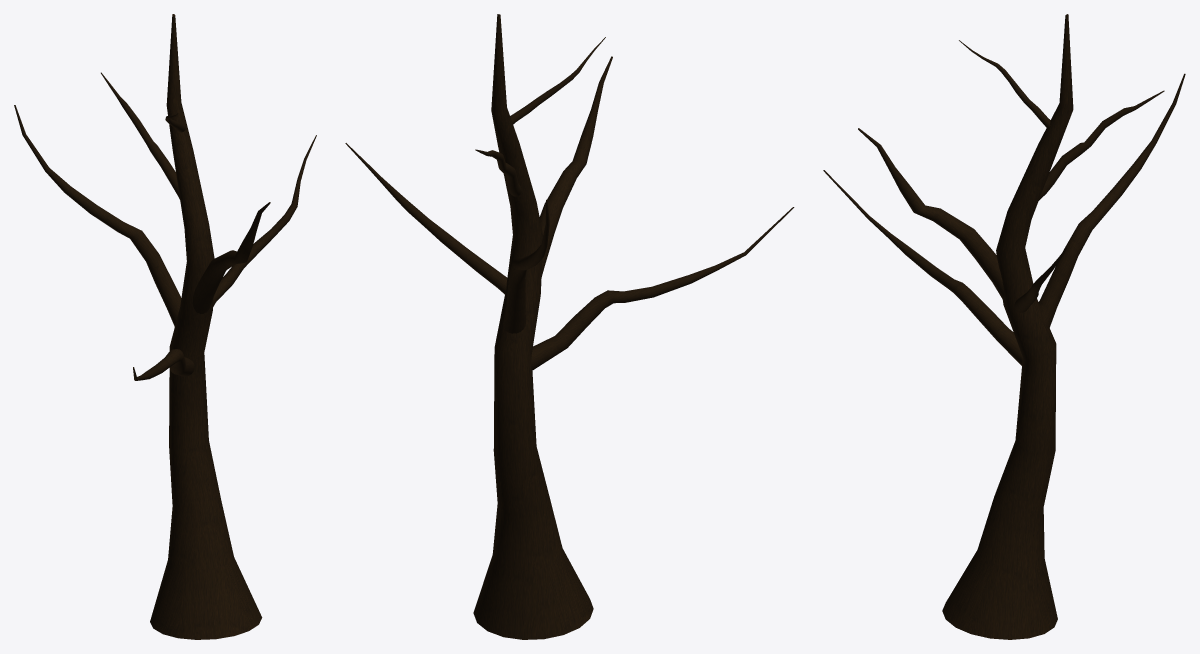
File: Tree3.FBX
The picture shows the model from 3 angles, left to right: view 1: azimuth 30°, elevation 25°; view 2: azimuth 150°, elevation 25°; view 3: azimuth 270°, elevation 25°; orthographic projection. The views are drawn at different scales.
Visible parts, largest first — view 1: Cylinder001, Cylinder005, Cylinder003, Cylinder008, Cylinder004, Cylinder006; view 2: Cylinder001, Cylinder006, Cylinder003, Cylinder008, Cylinder005, Cylinder007; view 3: Cylinder001, Cylinder005, Cylinder003, Cylinder006, Cylinder004, Cylinder007, Cylinder008.
Part boxes in pixels (x1,y1,x2,y2): Cylinder001: (150,14,262,639); Cylinder005: (14,105,181,326); Cylinder003: (192,202,270,313); Cylinder008: (213,135,316,306); Cylinder004: (101,72,179,199); Cylinder006: (133,349,194,380); Cylinder001: (473,14,593,639); Cylinder006: (531,207,794,370); Cylinder003: (539,56,612,276); Cylinder008: (345,143,507,294); Cylinder005: (503,199,549,333); Cylinder007: (510,37,605,124); Cylinder001: (942,14,1073,639); Cylinder005: (1038,73,1185,328); Cylinder003: (858,128,1004,299); Cylinder006: (823,170,1022,365); Cylinder004: (1038,90,1164,200); Cylinder007: (959,40,1050,128); Cylinder008: (1014,246,1067,312).
Bounding box in the file's own units: 155 × 287 × 156.
1 material, 1 textured.
